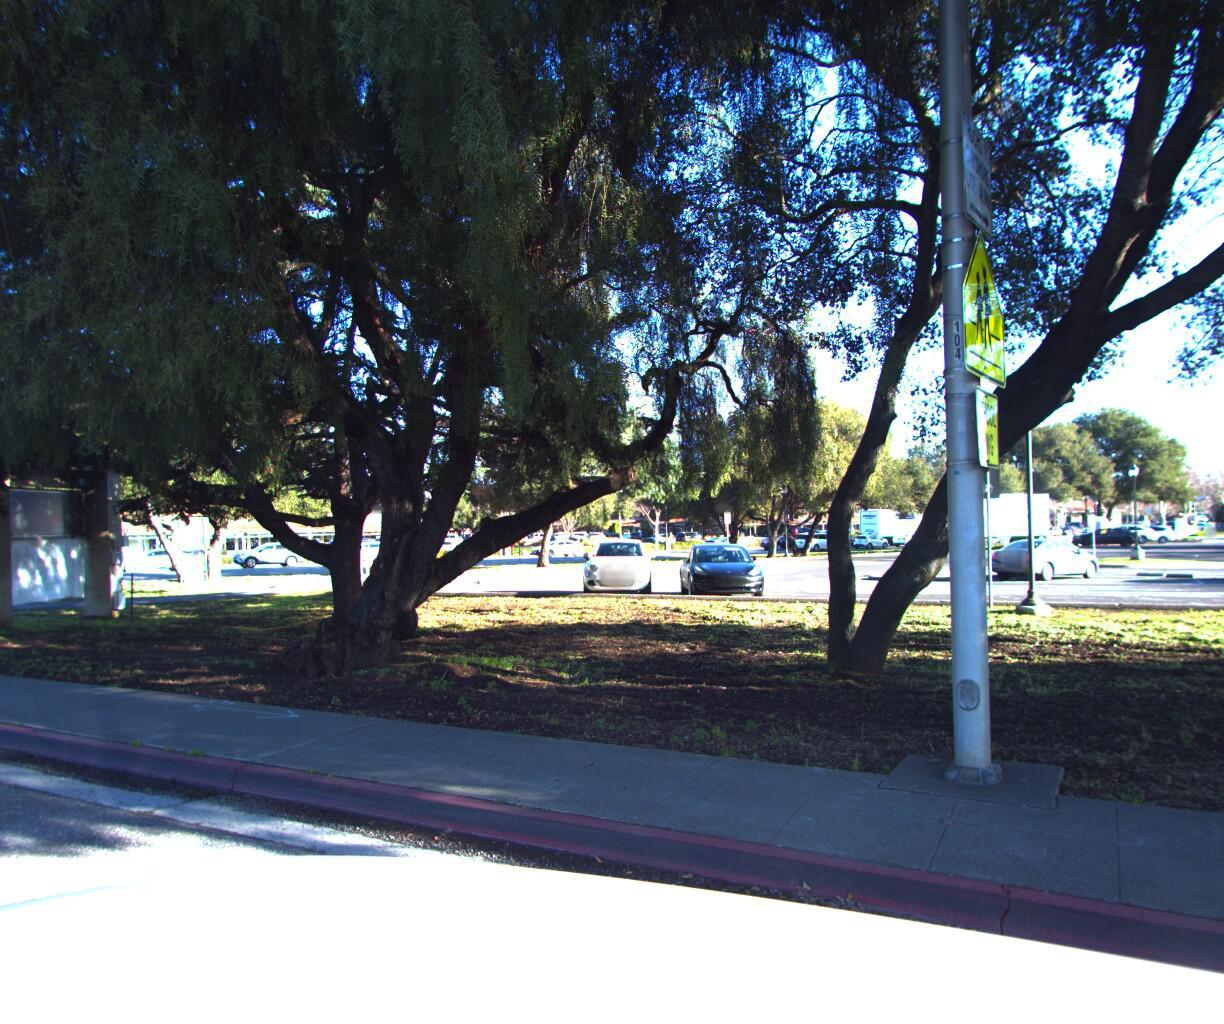car: (110, 538, 197, 565), (229, 533, 307, 560), (322, 532, 397, 557), (530, 532, 586, 554), (790, 521, 842, 543), (703, 524, 756, 544), (886, 524, 929, 540), (848, 524, 890, 540)
